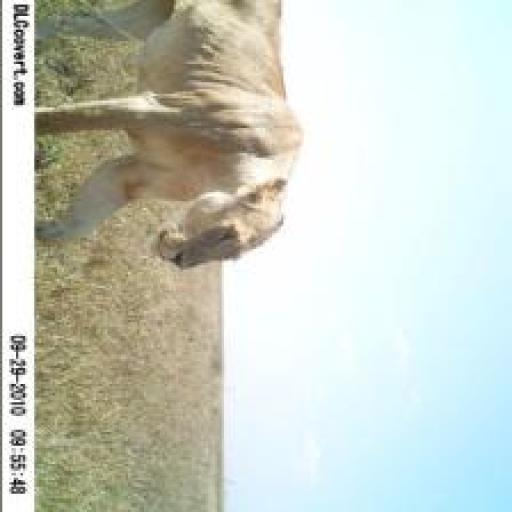lion: (32, 2, 341, 278)
